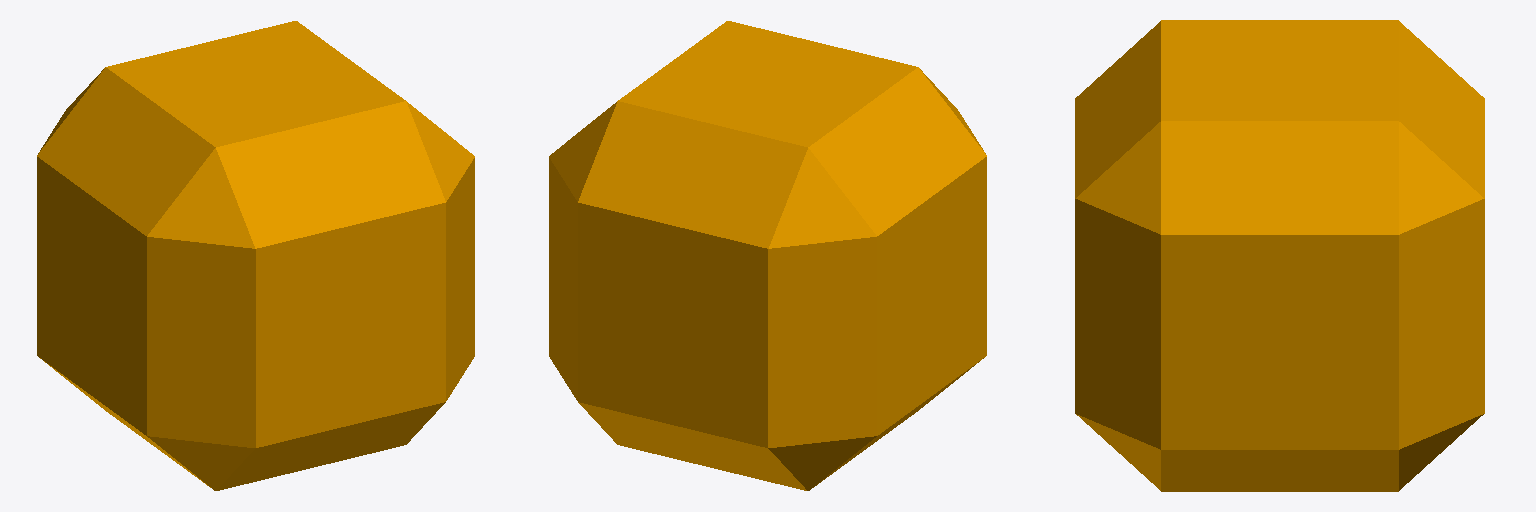
robot.urdf — object:
<?xml version="1.0"?>
<robot name="object">
  <link name="object">
    <visual>
      <origin xyz="0 0 0"/>
      <geometry>
        <mesh filename="meshes/set2/set_obj6_block_corner.obj" scale=".03 .03 .03"/>
      </geometry>
    </visual>
    <collision>
  <origin xyz="0 0 0"/>
  <geometry>
    <mesh filename="meshes/set2/set_obj6_block_corner_0decompose.obj" scale=".03 .03 .03"/>
<!--          <mesh filename="meshes/custom/obj0_ball.obj" scale=".05 .05 .05"/>-->
  </geometry>
</collision>

<!--    <collision>-->
<!--      <origin xyz="0 0 0"/>-->
<!--      <geometry>-->
<!--        <mesh filename="meshes/set2/set_obj6_block_corner.obj" scale=".03 .03 .03"/>-->
<!--&lt;!&ndash;          <mesh filename="meshes/custom/obj0_ball.obj" scale=".05 .05 .05"/>&ndash;&gt;-->
<!--      </geometry>-->
<!--    </collision>-->
    <inertial>
      <density value="1000.0"/>
    </inertial>
  </link>
</robot>

--- What the picture shows (computed from the rendered views, not written in the file) ---
Views: 3 orthographic renders of the robot side by side, from view 1: azimuth 30°, elevation 25°; view 2: azimuth 150°, elevation 25°; view 3: azimuth 270°, elevation 25°.
Robot: object — 1 links, 0 joints (none); root link object; default pose: every joint at zero.
Visible links, largest first — view 1: object; view 2: object; view 3: object.
Boxes of the visible links, x1=… form: object: x1=37, y1=21, x2=474, y2=490; object: x1=549, y1=21, x2=986, y2=490; object: x1=1075, y1=20, x2=1484, y2=491.
Size in the robot's own frame: 0.06 by 0.06 by 0.06 metres.
1 mesh visuals loaded from 1 distinct referenced files (1 OBJ).